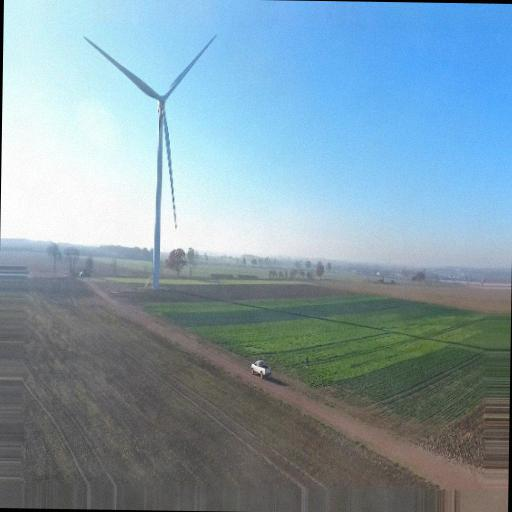wind turbine: (81, 33, 220, 294)
